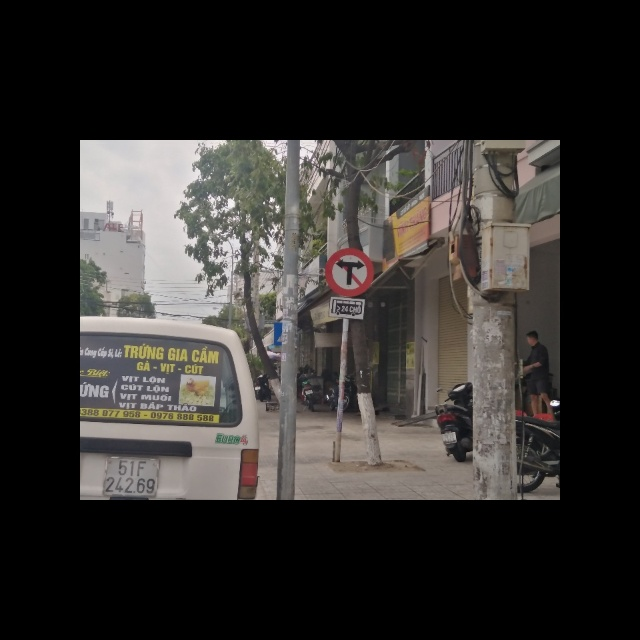Cấm rẽ trái và rẽ phải: (325, 249, 374, 297)
